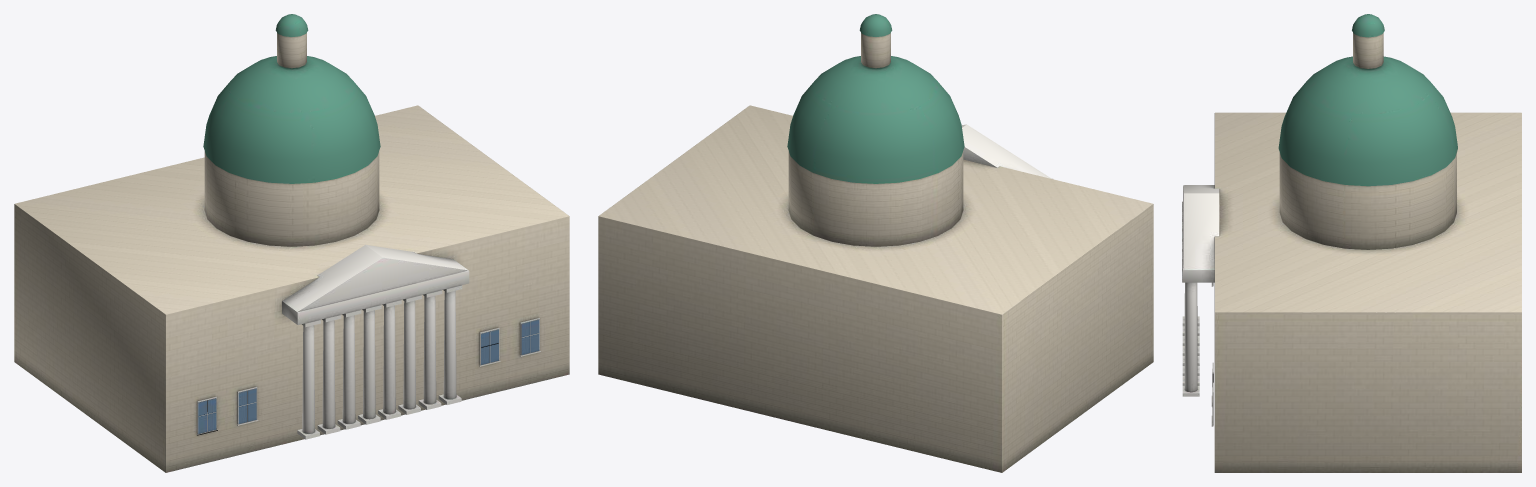
Rendered from statehouse_in.glb.
3 views of the same model, side by side, from view 1: azimuth 30°, elevation 25°; view 2: azimuth 150°, elevation 25°; view 3: azimuth 270°, elevation 25° (orthographic).
Visible parts, largest first — view 1: statehouse_in; view 2: statehouse_in; view 3: statehouse_in.
Boxes of the visible parts, x1,y1,x2,y2 form: statehouse_in: (14, 14, 569, 472); statehouse_in: (598, 14, 1153, 472); statehouse_in: (1182, 14, 1521, 472).
Size of the model in its own units: 40 by 33.4 by 28.77.
Materials: 1 (1 with a texture image).
